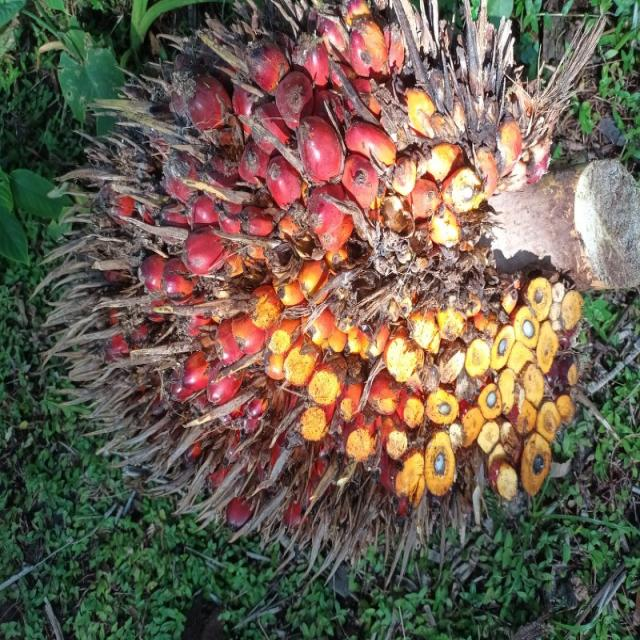fraksi 3: (43, 0, 612, 571)
